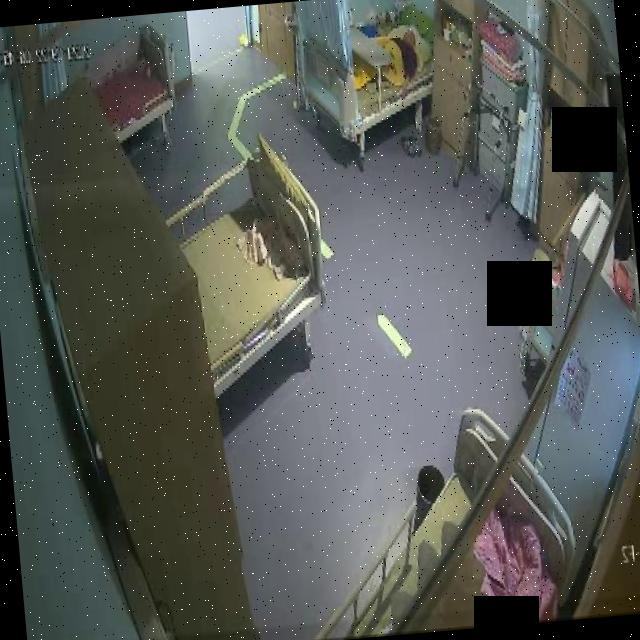bed: (326, 399, 584, 639), (192, 145, 337, 401), (299, 26, 436, 173), (105, 12, 182, 156)
